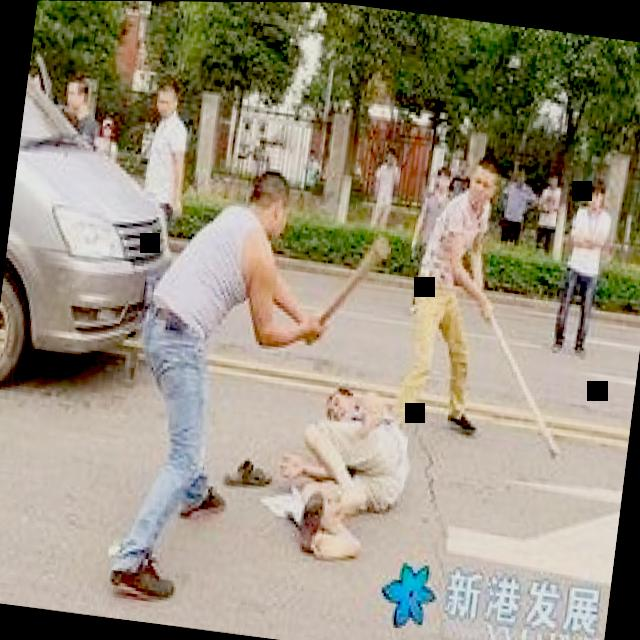Fall-Detected: (256, 344, 432, 574)
